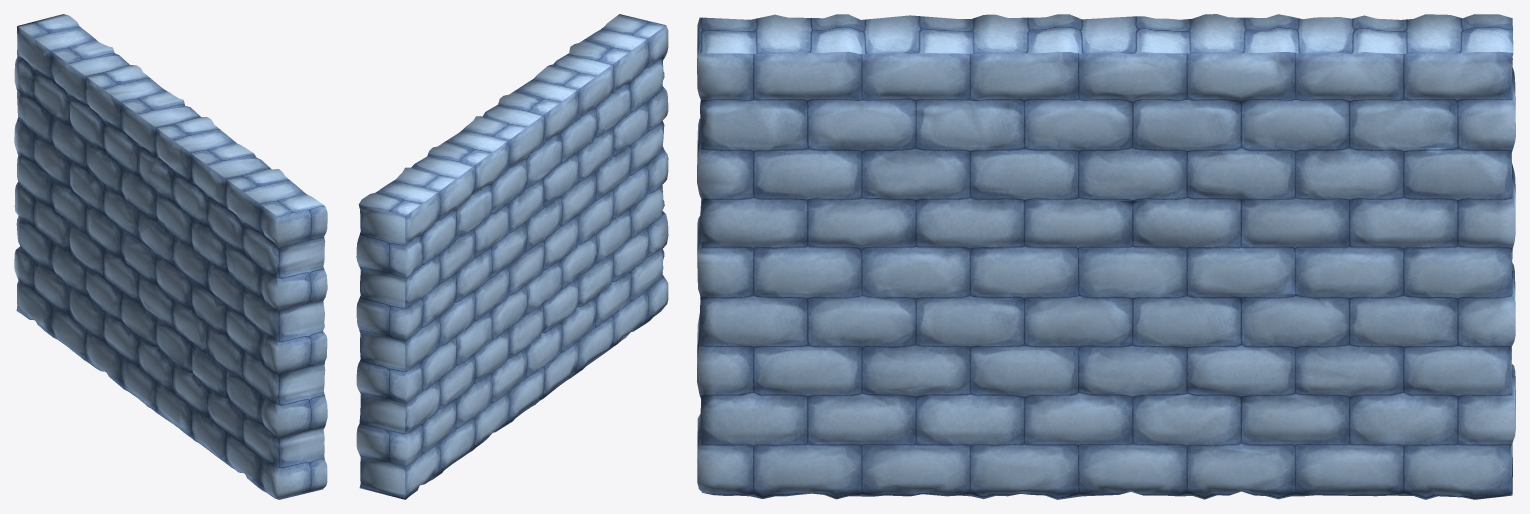
The model's file is wall0.fbx.
3 renders of one model, left to right at view 1: azimuth 30°, elevation 25°; view 2: azimuth 150°, elevation 25°; view 3: azimuth 270°, elevation 25°, orthographic. The views are drawn at different scales.
Parts seen in each view (by area): view 1: Cube; view 2: Cube; view 3: Cube.
Part boxes in pixels (left/top/right/bottom): Cube: left=14, top=14, right=327, bottom=499; Cube: left=356, top=14, right=668, bottom=499; Cube: left=697, top=14, right=1515, bottom=499.
Size of the model in its own units: 2.31 by 12.21 by 20.22.
